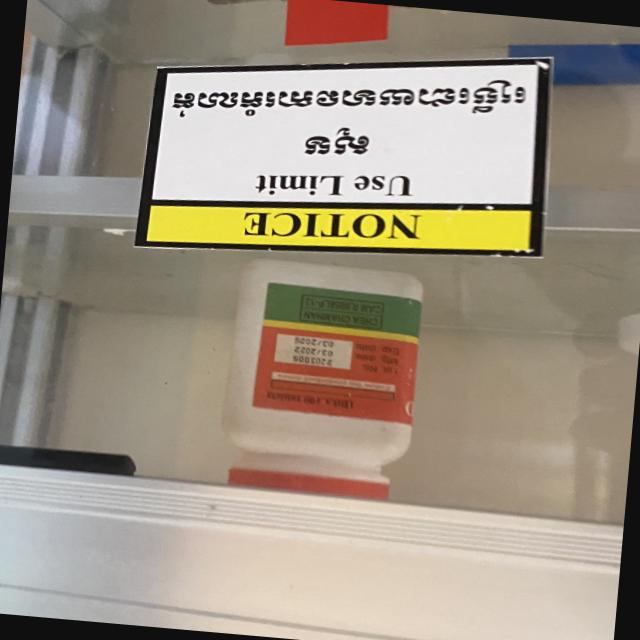Yolov11kh: (161, 73, 533, 119), (297, 123, 379, 162)
